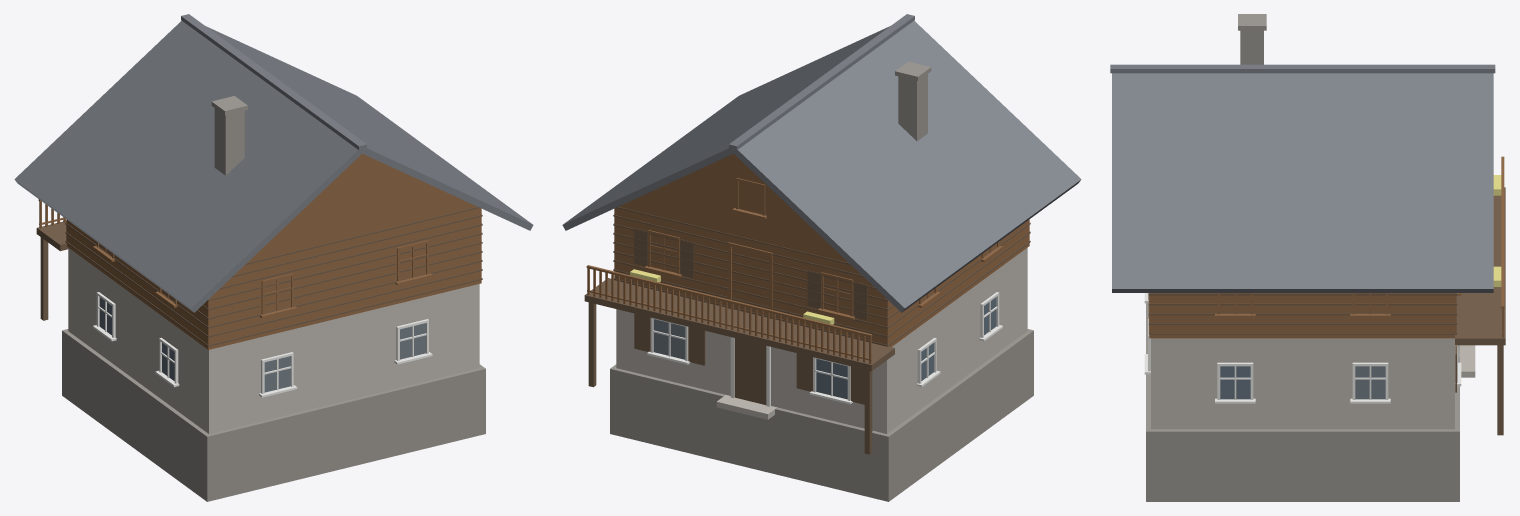
The model's file is chalet.glb.
The picture shows the model from 3 angles, left to right: view 1: azimuth 30°, elevation 25°; view 2: azimuth 150°, elevation 25°; view 3: azimuth 270°, elevation 25°; orthographic projection. The views are drawn at different scales.
Visible parts, largest first — view 1: chalet; view 2: chalet; view 3: chalet.
Boxes of the visible parts, bbox=[...] form: chalet: bbox=[14, 14, 533, 501]; chalet: bbox=[562, 14, 1081, 501]; chalet: bbox=[1110, 14, 1505, 501].
Size of the model in its own units: 12.66 by 12.18 by 11.7.
